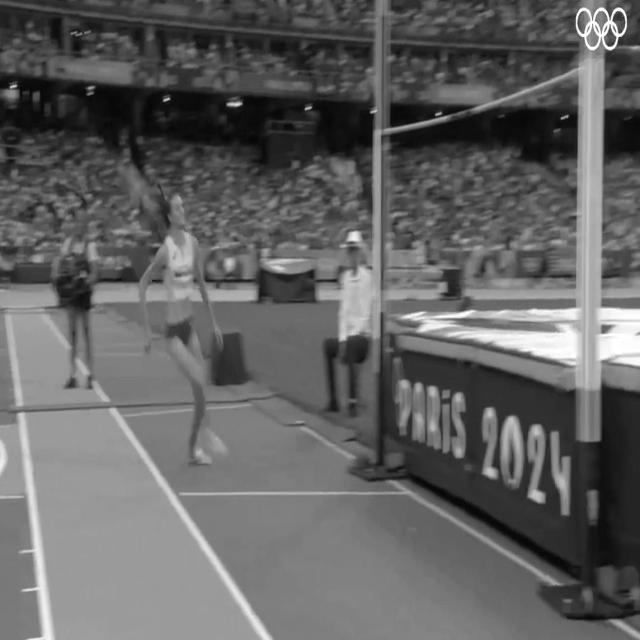run: (141, 185, 225, 460)
